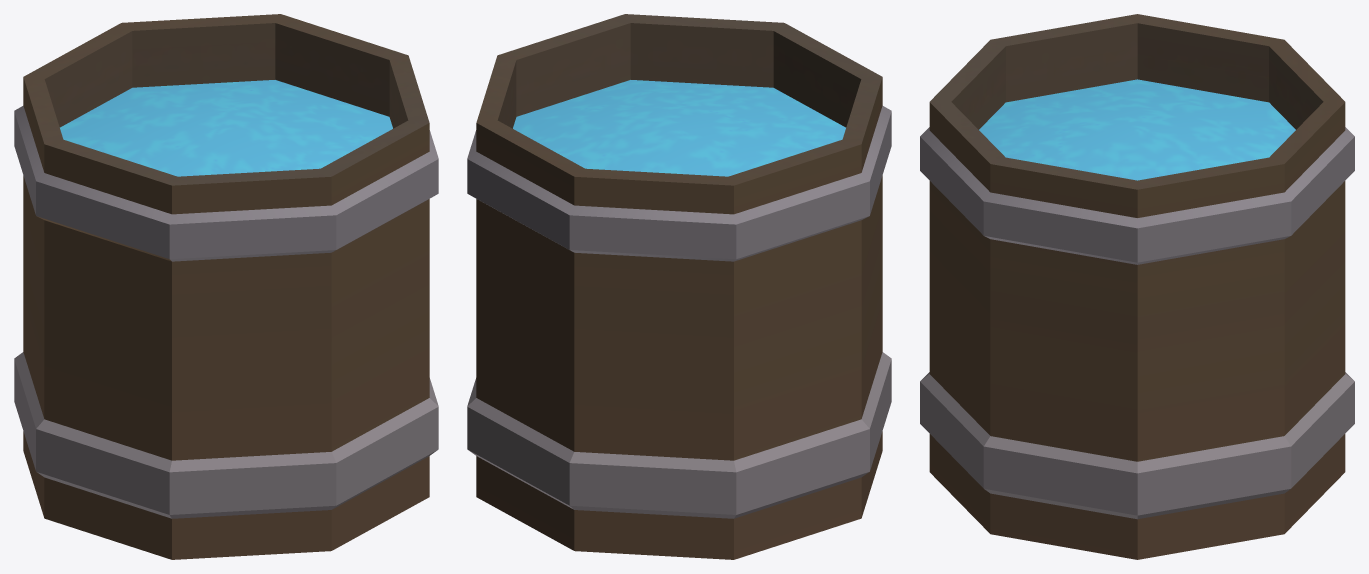
File: SM_Barrel_1A.FBX
3 renders of one model, left to right at view 1: azimuth 30°, elevation 25°; view 2: azimuth 150°, elevation 25°; view 3: azimuth 270°, elevation 25°, orthographic.
Parts seen in each view (by area): view 1: SM_Barrel_1A; view 2: SM_Barrel_1A; view 3: SM_Barrel_1A.
Part boxes in pixels (x1,y1,x2,y2): SM_Barrel_1A: [14, 14, 438, 559]; SM_Barrel_1A: [467, 14, 891, 559]; SM_Barrel_1A: [920, 14, 1354, 559].
Size of what is drawn, in the model's own units: 105 by 105 by 99.
